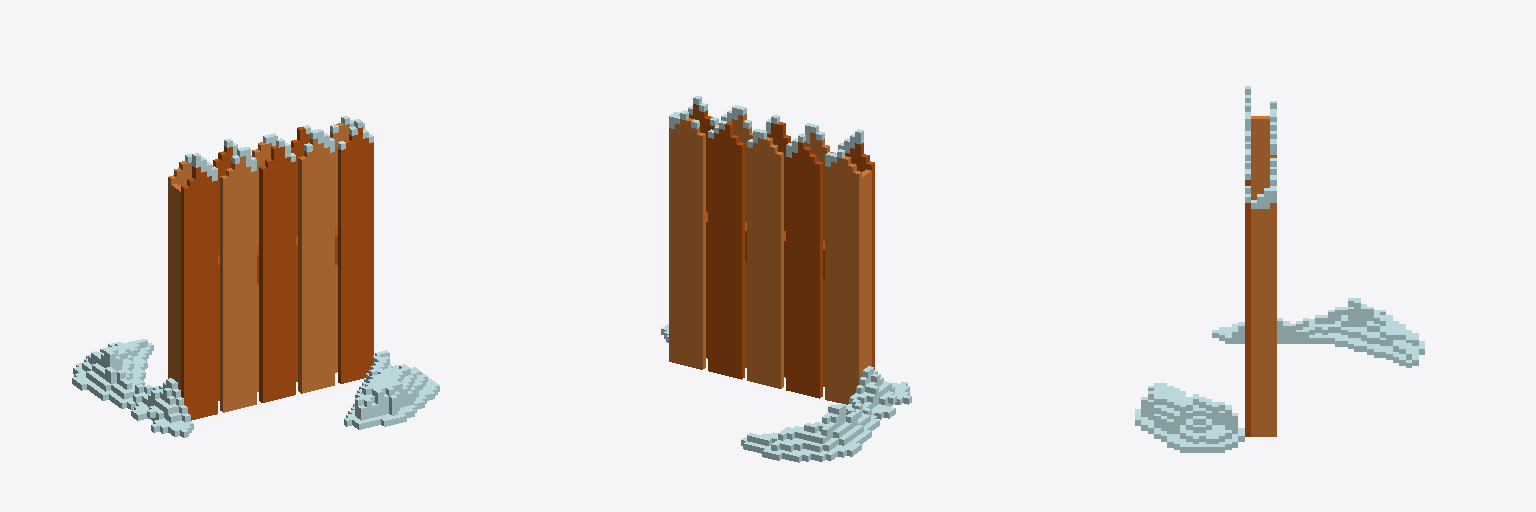
3 renders of one model, left to right at view 1: azimuth 30°, elevation 25°; view 2: azimuth 150°, elevation 25°; view 3: azimuth 270°, elevation 25°, orthographic.
Visible parts, largest first — view 1: Env_Obj_Clutter_Door; view 2: Env_Obj_Clutter_Door; view 3: Env_Obj_Clutter_Door.
Boxes of the visible parts, x1,y1,x2,y2 form: Env_Obj_Clutter_Door: [72, 116, 439, 437]; Env_Obj_Clutter_Door: [661, 96, 911, 462]; Env_Obj_Clutter_Door: [1135, 86, 1424, 452].
Size of the model in its own units: 4.8 by 4.5 by 4.5.
1 materials, 1 textured.